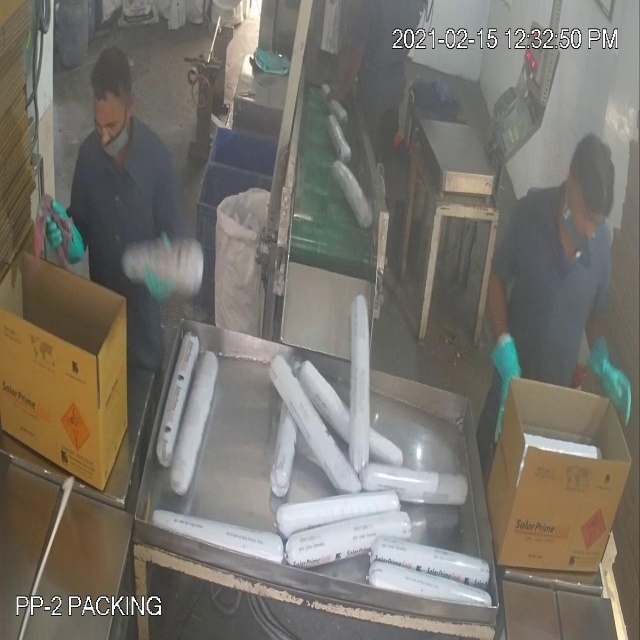Guantes: (494, 305, 530, 451), (590, 332, 640, 428)
Sin_guantes: (321, 41, 369, 108)
